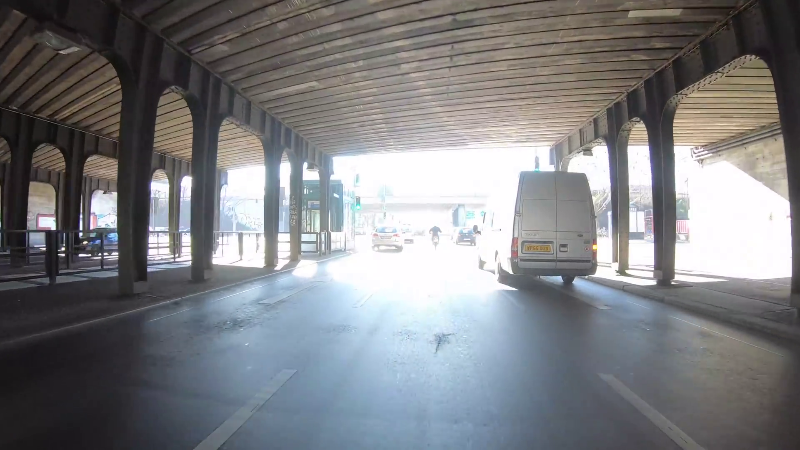Plate: (524, 242, 553, 253)
